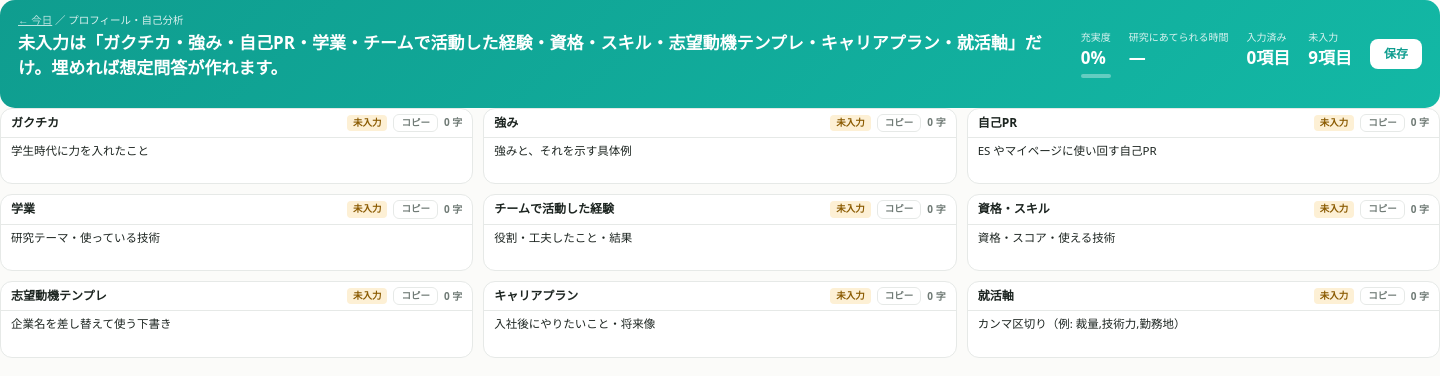
Test: 永続化 › 保存に失敗したらエラー内容を画面に出す
Expected: the text box named "ガクチカ" is enabled, [11,143,462,176]
Step 1. Click the button "保存" → (1396, 54), box [1370,39,1422,69]
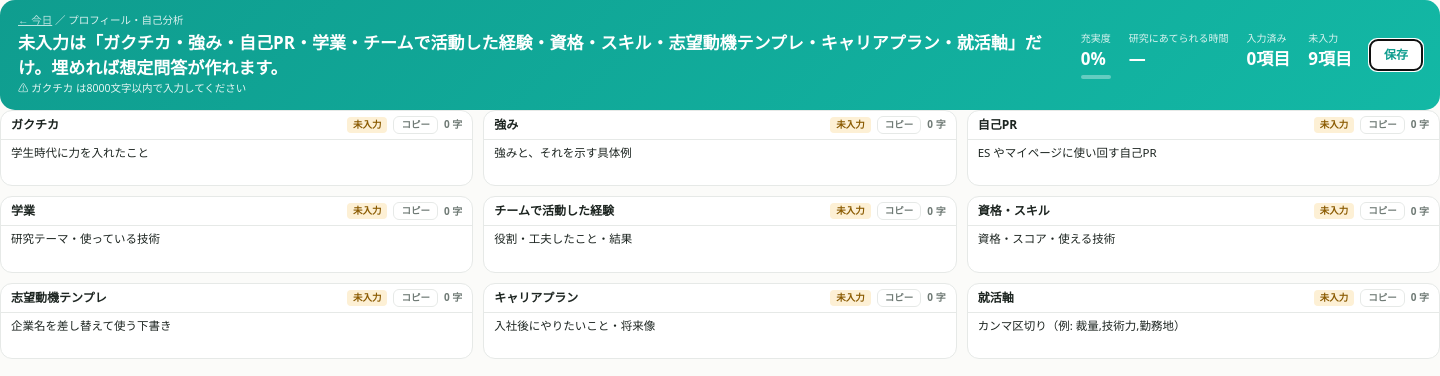
Expected: the text "⚠ ガクチカ は8000文字以内で入力してください" is shown, [18,81,246,95]
